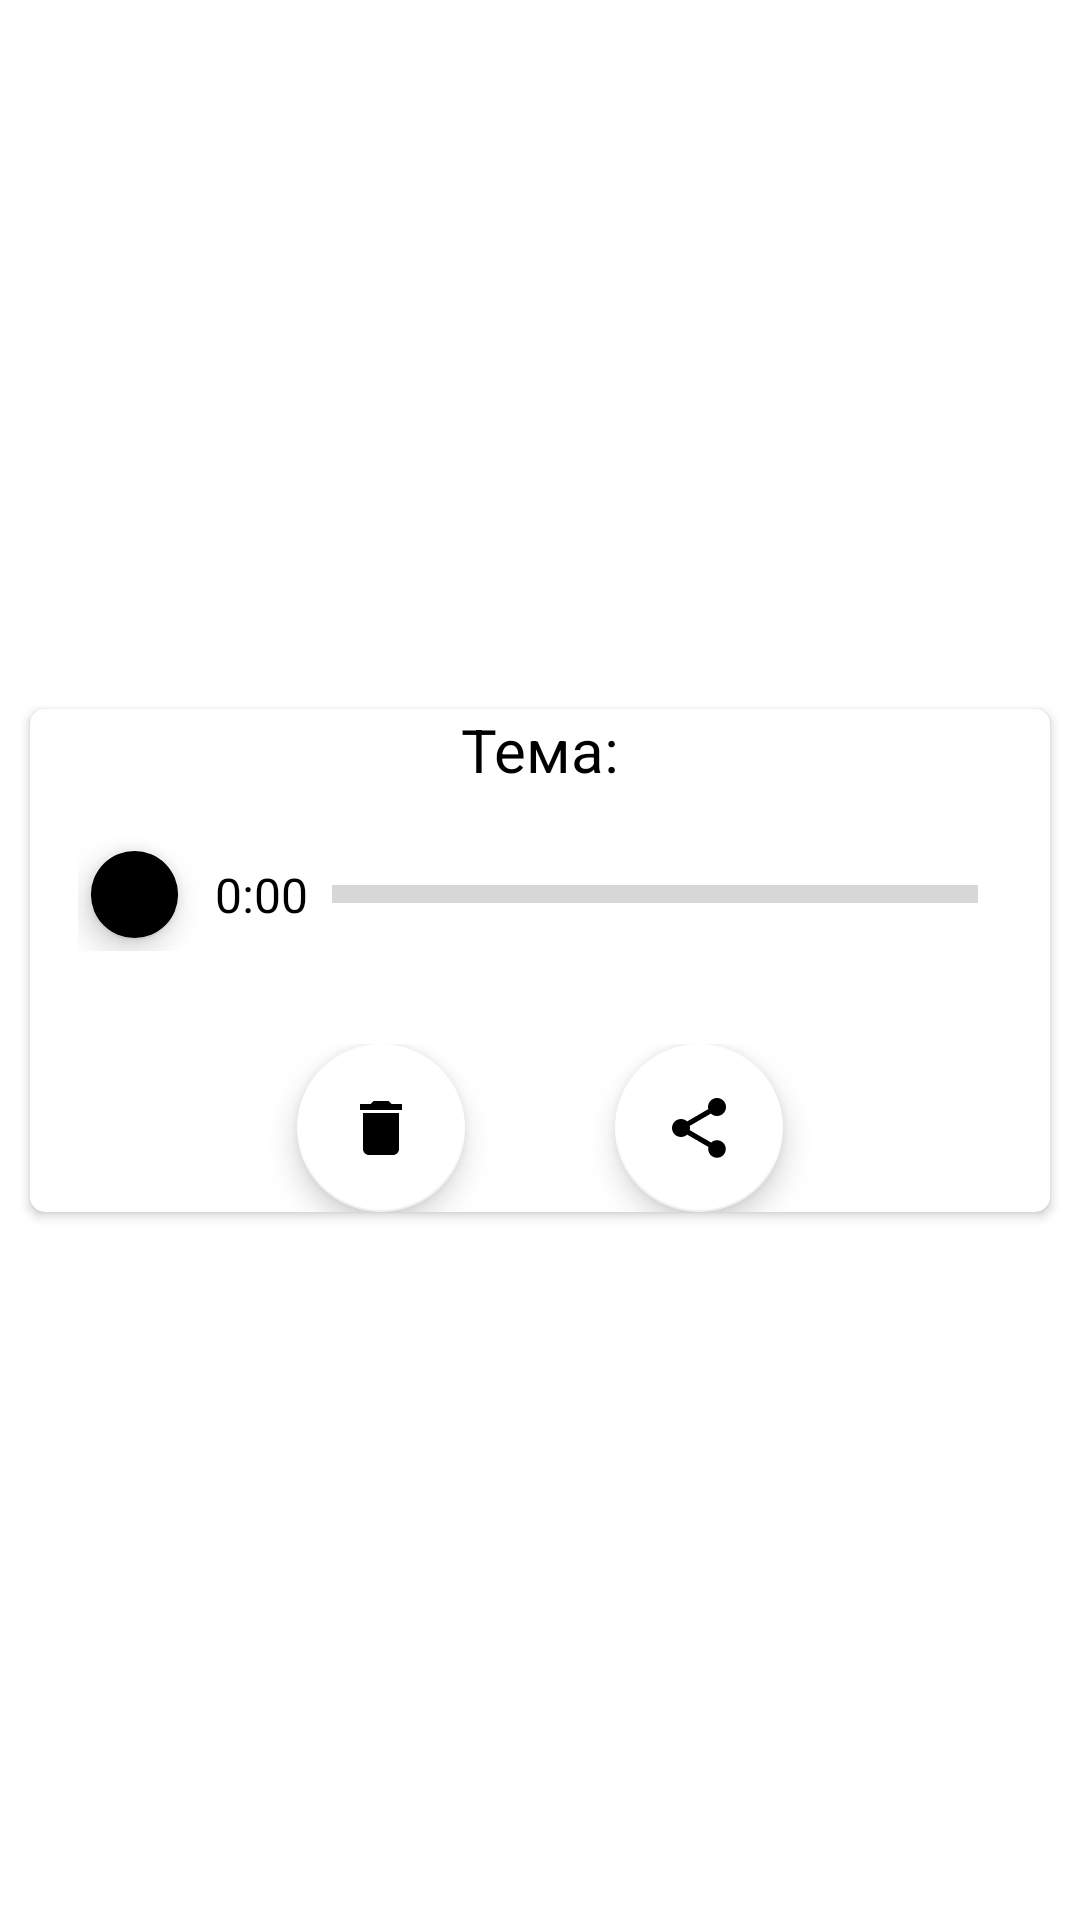

Where to tap for icons on this 1080x1920 app screen, as point (x, y):
delete: point (411, 1128)
share: point (672, 1129)
